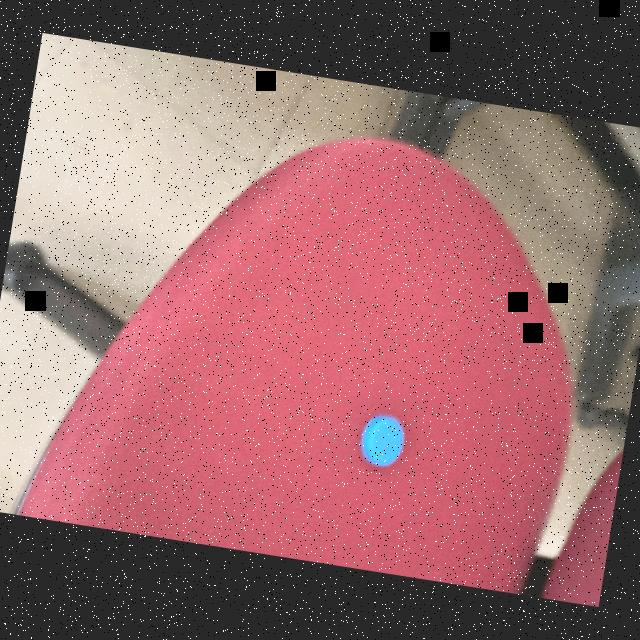plastic_bottle_cap: (352, 409, 412, 473)
